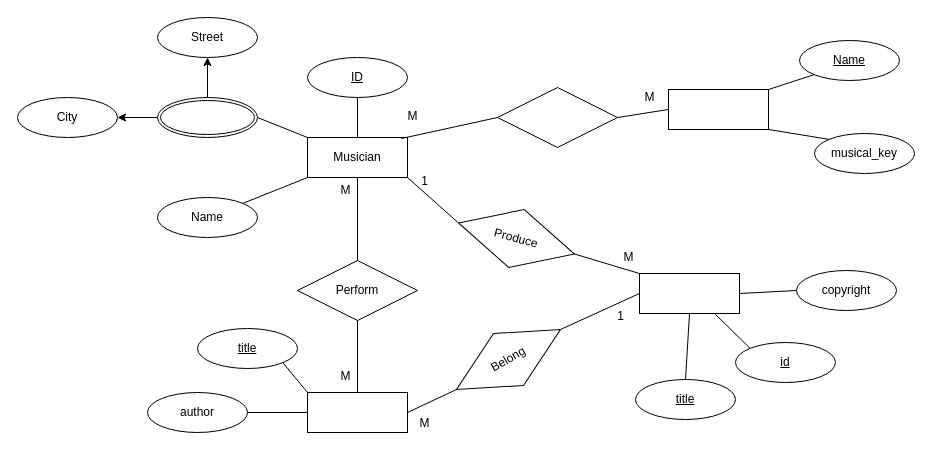
This 932x454 diagram has some shape labels left out. The shapes that lost their labels are listed below. From the top down, each one's centre as x and y in pixels, then its label:
pixel 207 117: Address
pixel 557 117: Play
pixel 718 109: Instrument
pixel 689 293: Album
pixel 357 412: Song
